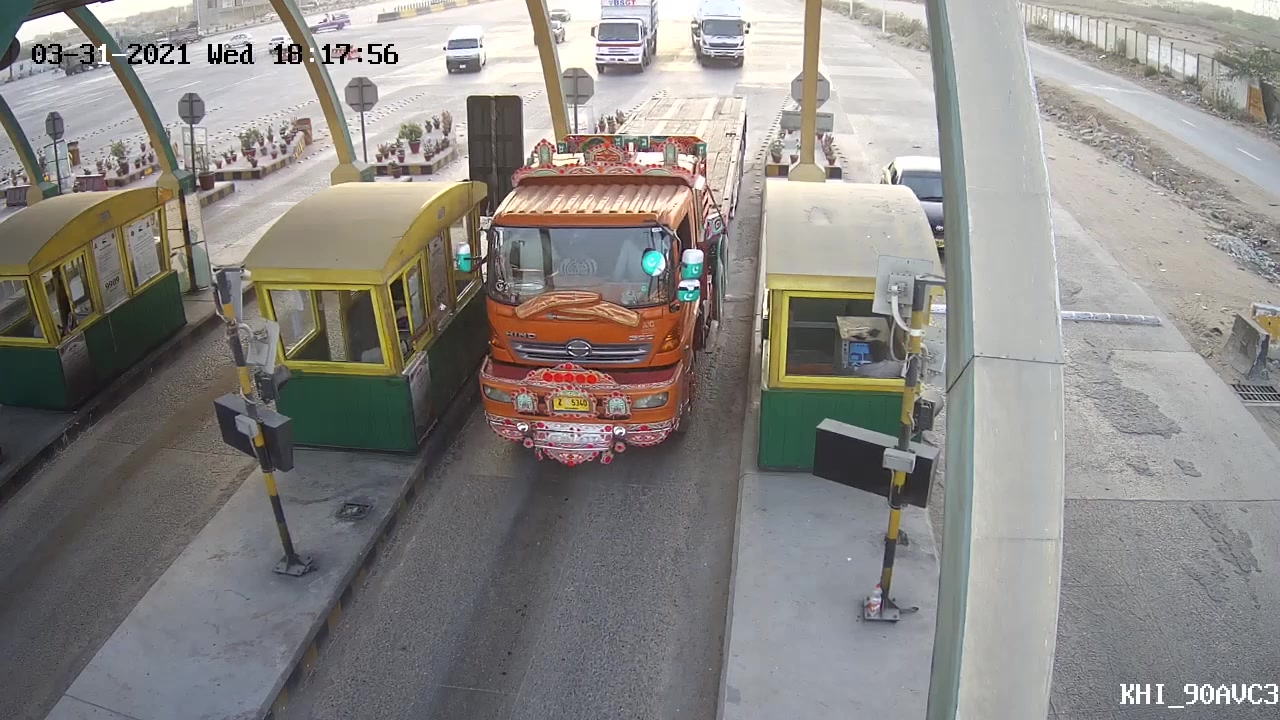F6: (455, 126, 745, 471)
